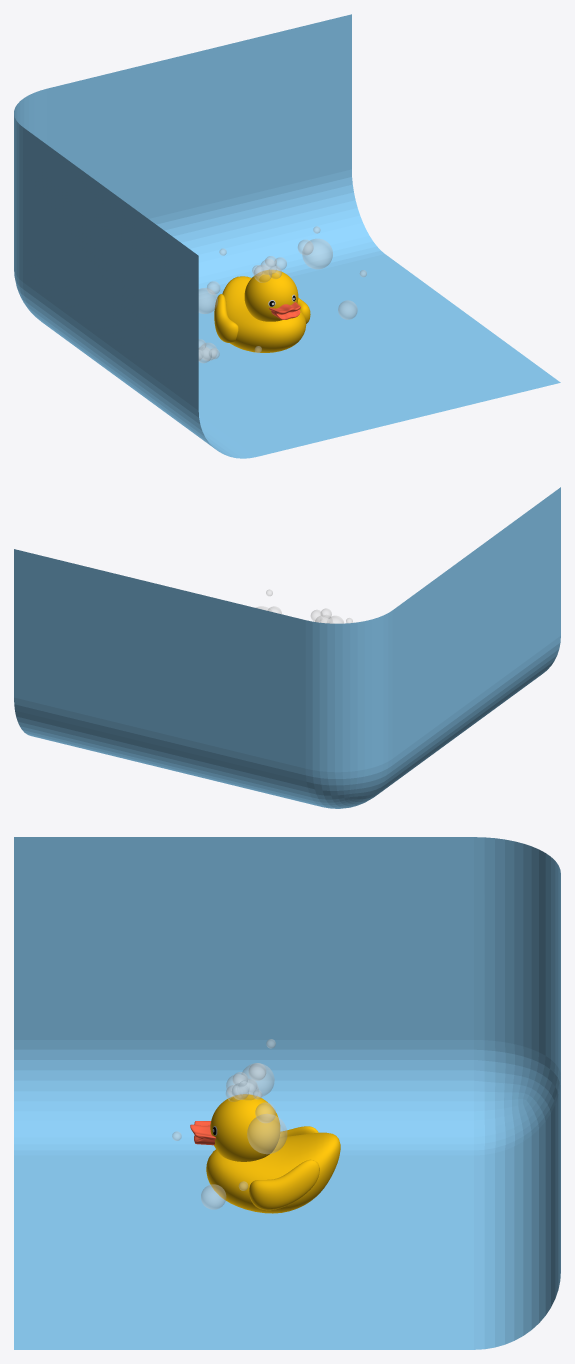
Rendered from duckcop3.glb.
3 views of the same model, one above another, from view 1: azimuth 30°, elevation 25°; view 2: azimuth 150°, elevation 25°; view 3: azimuth 270°, elevation 25° (orthographic). The views are drawn at different scales.
Parts seen in each view (by area): view 1: 平面, Cube, 球, 立方体, 球.001; view 2: 平面; view 3: 平面, Cube, 球, 立方体, 球.001, 球.003.
Boxes of the visible parts, left/top/right/bottom form: 平面: left=14, top=14, right=560, bottom=458; Cube: left=222, top=276, right=306, bottom=352; 球: left=244, top=270, right=298, bottom=321; 立方体: left=214, top=294, right=310, bottom=342; 球.001: left=302, top=239, right=332, bottom=268; 平面: left=14, top=487, right=560, bottom=808; 平面: left=14, top=837, right=560, bottom=1349; Cube: left=206, top=1132, right=340, bottom=1213; 球: left=210, top=1094, right=280, bottom=1161; 立方体: left=249, top=1126, right=319, bottom=1210; 球.001: left=247, top=1114, right=287, bottom=1153; 球.003: left=242, top=1063, right=274, bottom=1096.
Bounding box in the file's own units: 8.33 × 4.73 × 8.33.
